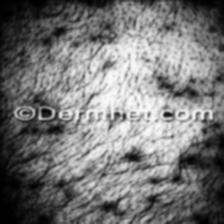Toxin: (22, 134, 224, 224), (44, 0, 217, 103)
